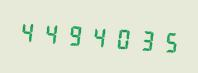five: (155, 24, 177, 58)
four: (40, 15, 62, 50), (17, 14, 39, 48), (86, 19, 108, 53)
nine: (63, 17, 85, 52)
three: (132, 22, 154, 56)
zero: (109, 20, 131, 55)
